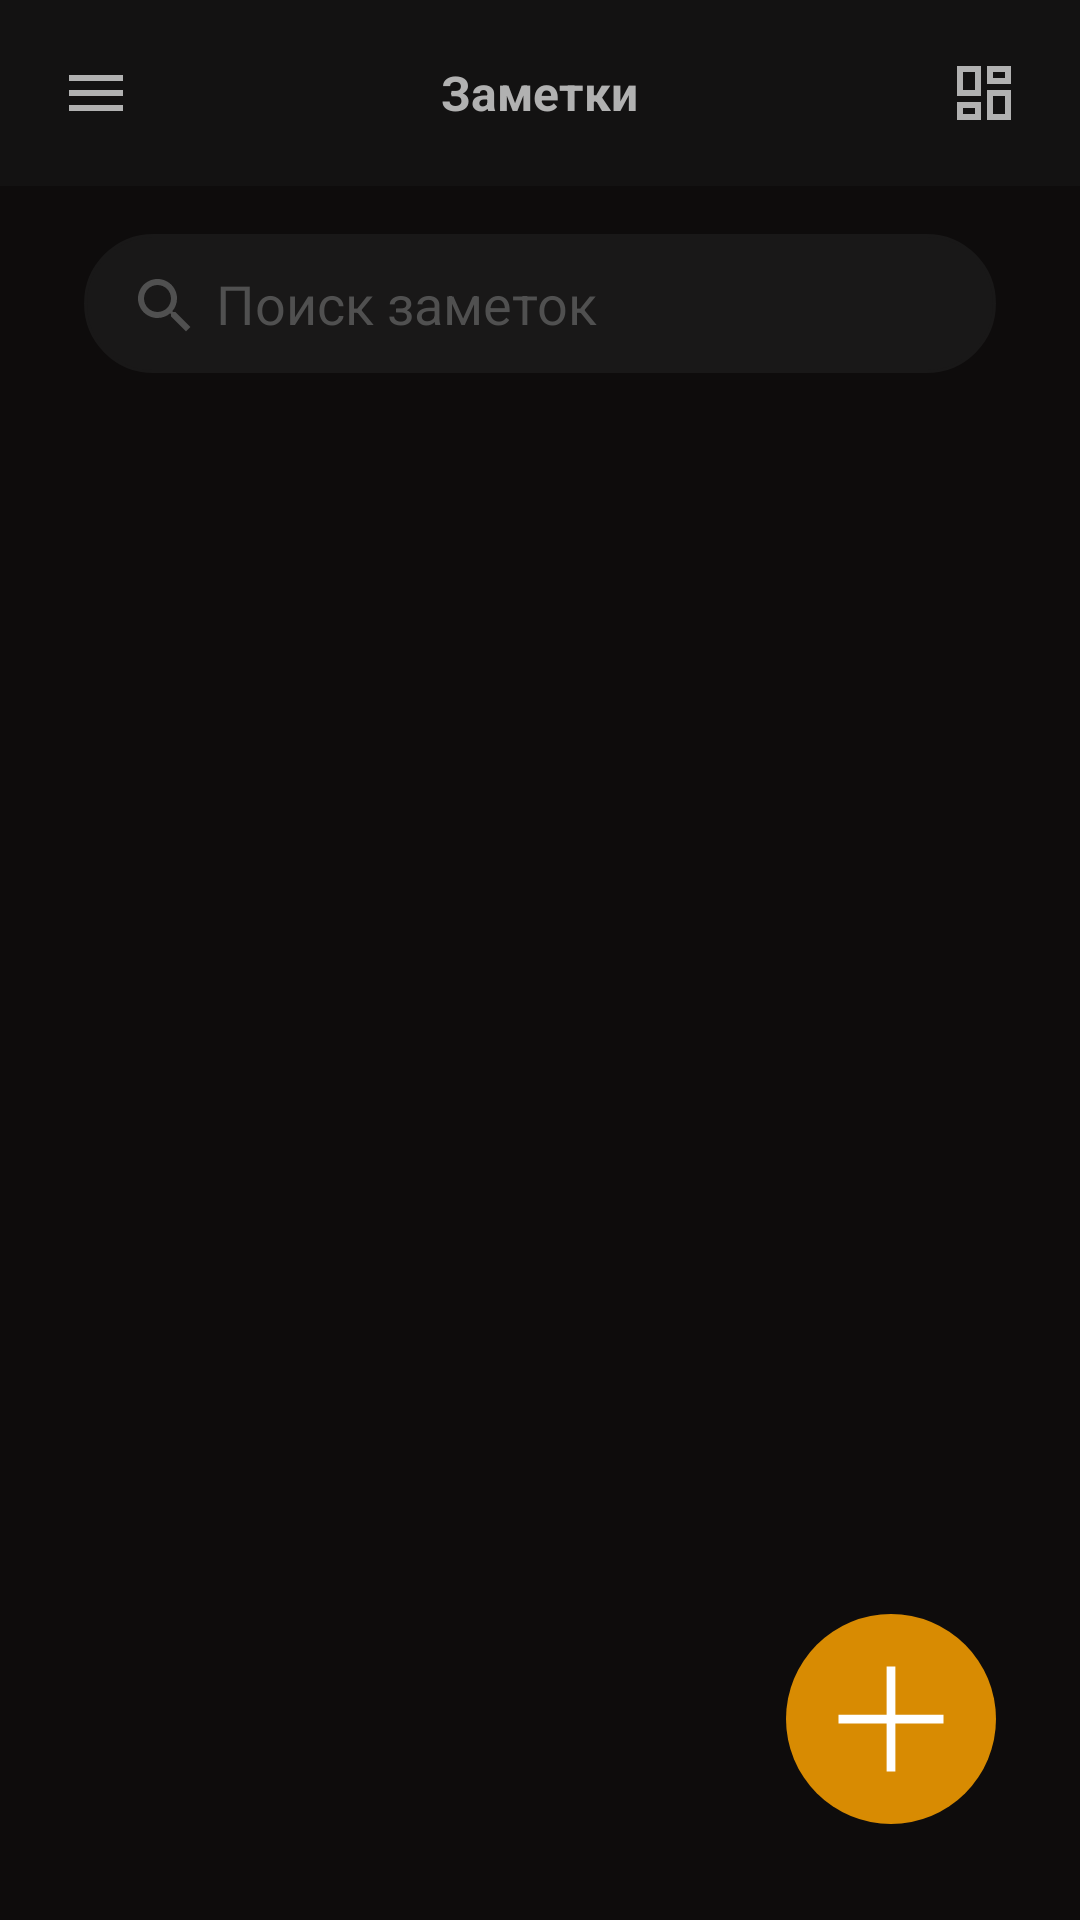

Locate icon controls on the screen. Image size 1080px x 1920px, boxes as [x1=x1, y1=y1, x2=x2, y2=y2].
menu: [x1=69, y1=75, x2=123, y2=111]
search: [x1=138, y1=279, x2=190, y2=331]
sircle plus: [x1=786, y1=1614, x2=996, y2=1824]
